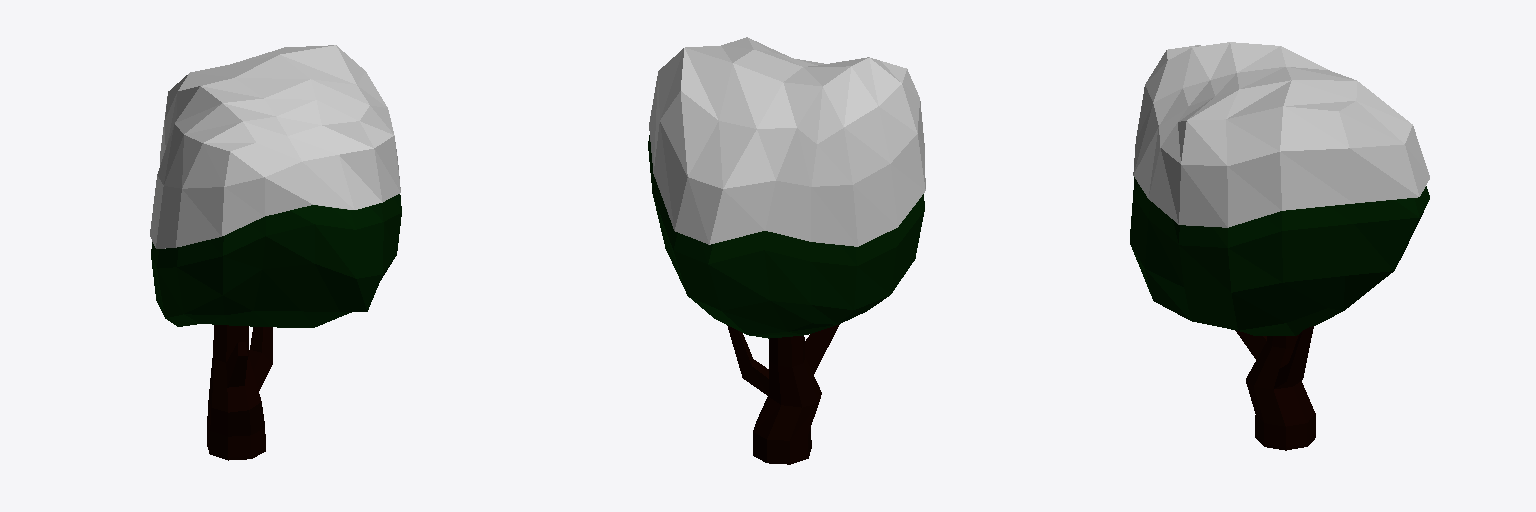
Rendered from snowTree.obj.
The picture shows the model from 3 angles: view 1: azimuth 30°, elevation 25°; view 2: azimuth 150°, elevation 25°; view 3: azimuth 270°, elevation 25°; orthographic projection.
Visible parts, largest first — view 1: Cube.004, Cube.003, Cylinder.093; view 2: Cube.004, Cube.003, Cylinder.093; view 3: Cube.004, Cube.003, Cylinder.093.
Part boxes in pixels (bbox=[...]): Cube.004: bbox=[150, 45, 400, 248]; Cube.003: bbox=[151, 194, 401, 327]; Cylinder.093: bbox=[207, 325, 272, 460]; Cube.004: bbox=[649, 37, 925, 246]; Cube.003: bbox=[648, 135, 924, 338]; Cylinder.093: bbox=[727, 324, 839, 464]; Cube.004: bbox=[1133, 42, 1429, 227]; Cube.003: bbox=[1130, 177, 1429, 335]; Cylinder.093: bbox=[1235, 326, 1315, 450].
Bounding box in the file's own units: 9.03 × 13.77 × 9.89.